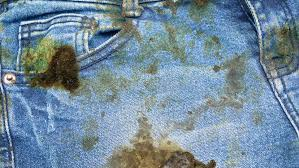earth: (121, 145, 208, 168), (38, 47, 81, 92), (266, 26, 295, 62), (223, 56, 246, 101), (116, 18, 135, 33)
